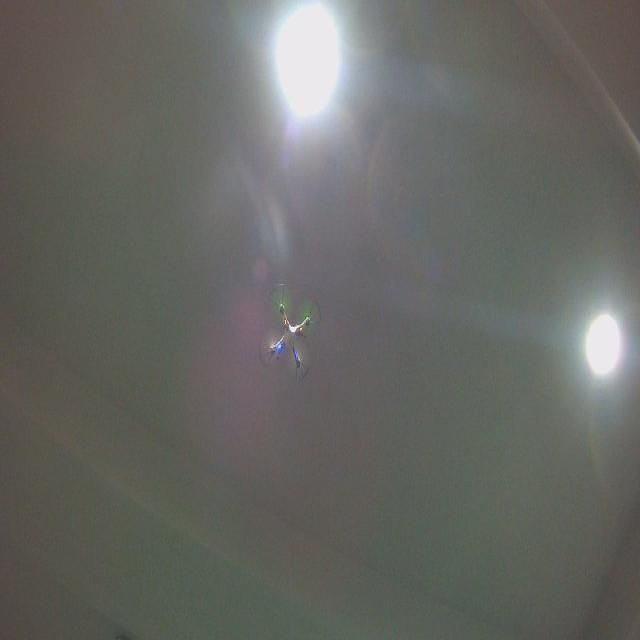drone: (256, 278, 323, 383)
